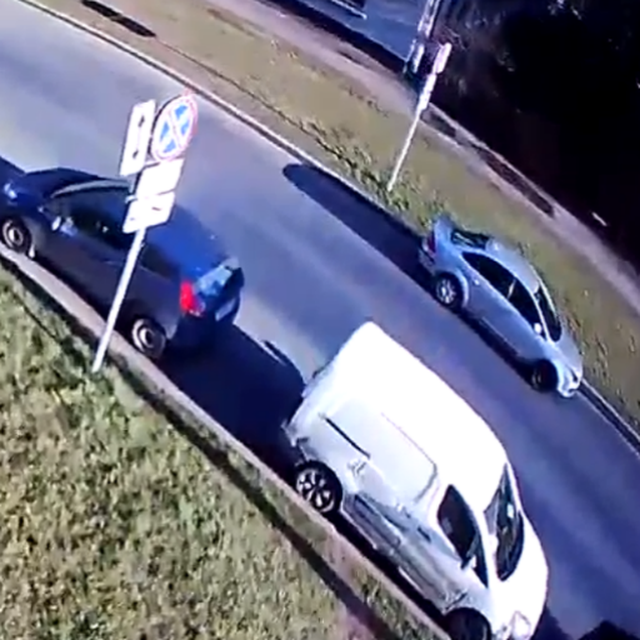car: (278, 319, 549, 640), (3, 166, 246, 358), (414, 217, 585, 398)
